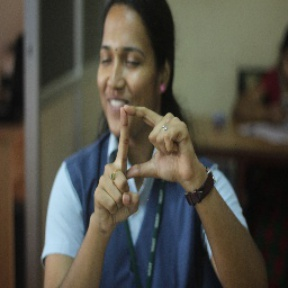D: (106, 100, 187, 202)
